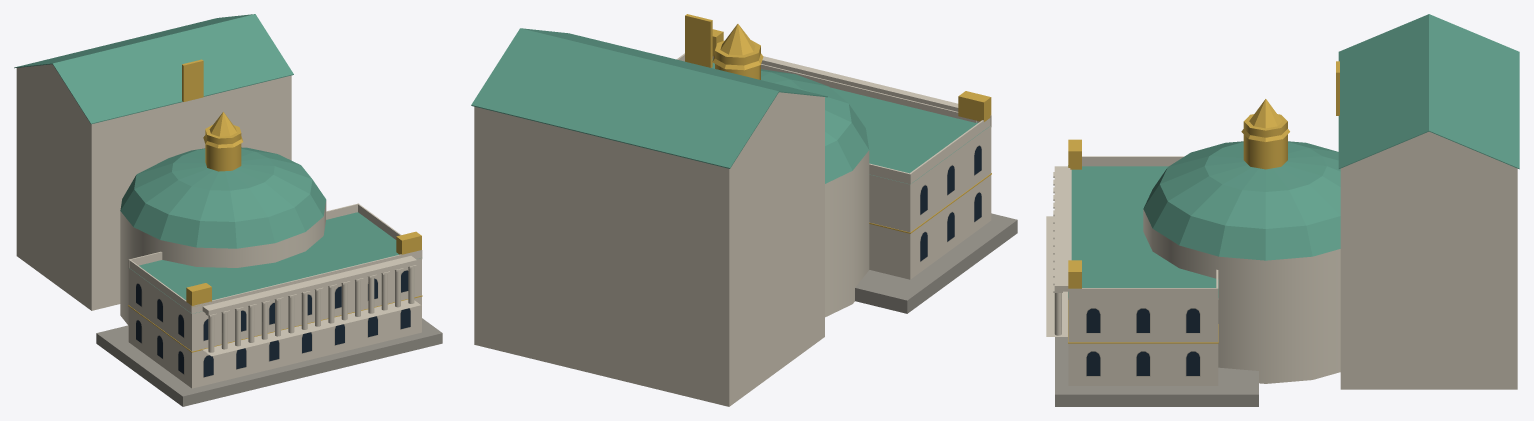
File: opera.glb
3 renders of one model, left to right at view 1: azimuth 30°, elevation 25°; view 2: azimuth 150°, elevation 25°; view 3: azimuth 270°, elevation 25°, orthographic. The views are drawn at different scales.
Visible parts, largest first — view 1: opera; view 2: opera; view 3: opera.
Part boxes in pixels (x1,y1,x2,y2): opera: (14, 14, 442, 406); opera: (471, 14, 1017, 406); opera: (1046, 14, 1519, 406).
Size of the model in its own units: 52 by 43 by 69.55.
1 material, 1 textured.
